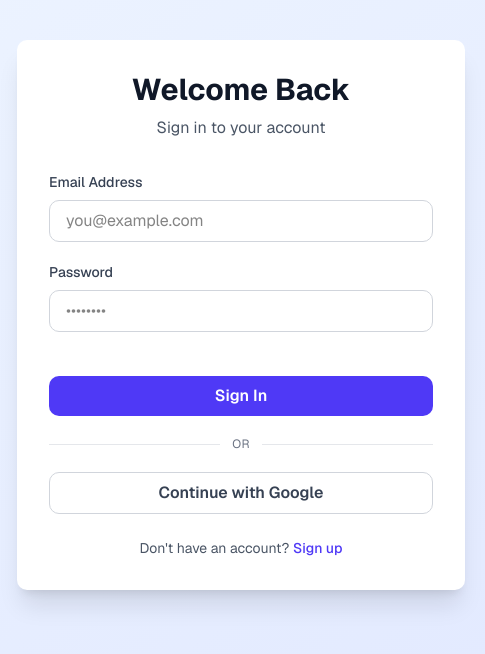
Test: Login Component › Form Validation › shows email error when email is empty
Click the button with test id "submit-button": [241, 396] box x1=49 y1=376 x2=433 y2=416
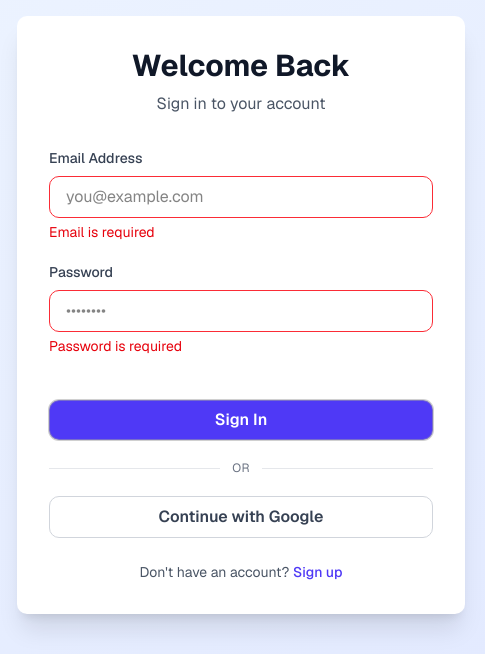
Now the text with test id "email-error" reads "Email is required", box x1=49 y1=223 x2=155 y2=241
